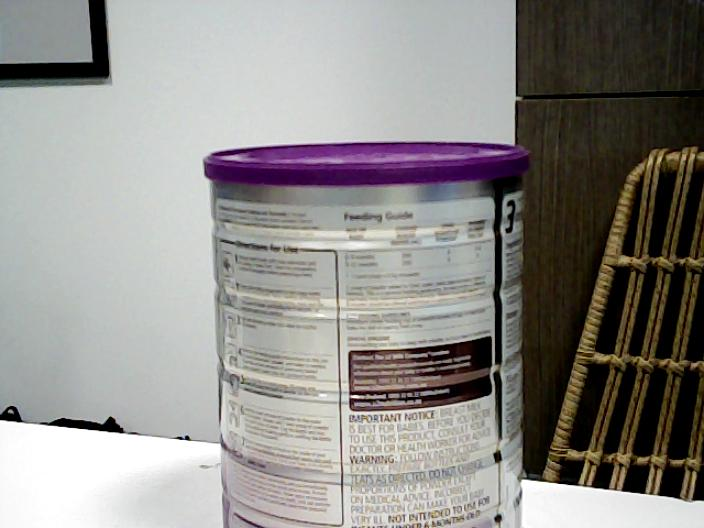Babymilk-powder_900-999g_NonHalal_NonHealthy: (200, 140, 532, 528)
